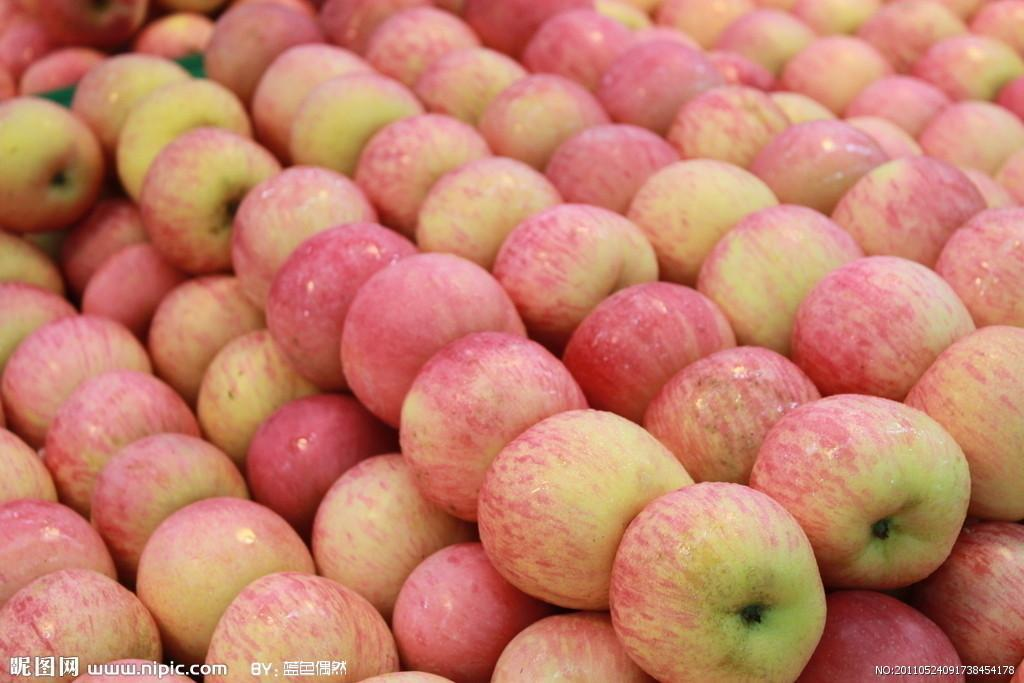apple: (611, 477, 832, 678), (479, 408, 700, 609), (753, 392, 974, 593), (400, 327, 584, 509), (339, 249, 522, 427), (640, 347, 828, 517), (134, 499, 314, 656), (560, 277, 738, 425), (701, 205, 881, 349), (792, 253, 972, 397), (265, 219, 419, 387), (902, 324, 1021, 526), (492, 203, 654, 348), (207, 570, 398, 681), (141, 126, 286, 272), (315, 451, 467, 589), (391, 540, 544, 673), (92, 435, 250, 563), (1, 315, 159, 443), (40, 374, 198, 502), (231, 163, 374, 302), (244, 388, 387, 518), (832, 152, 987, 269), (1, 570, 160, 682), (911, 518, 1020, 672), (805, 588, 957, 680), (1, 98, 101, 234), (1, 496, 121, 605)
